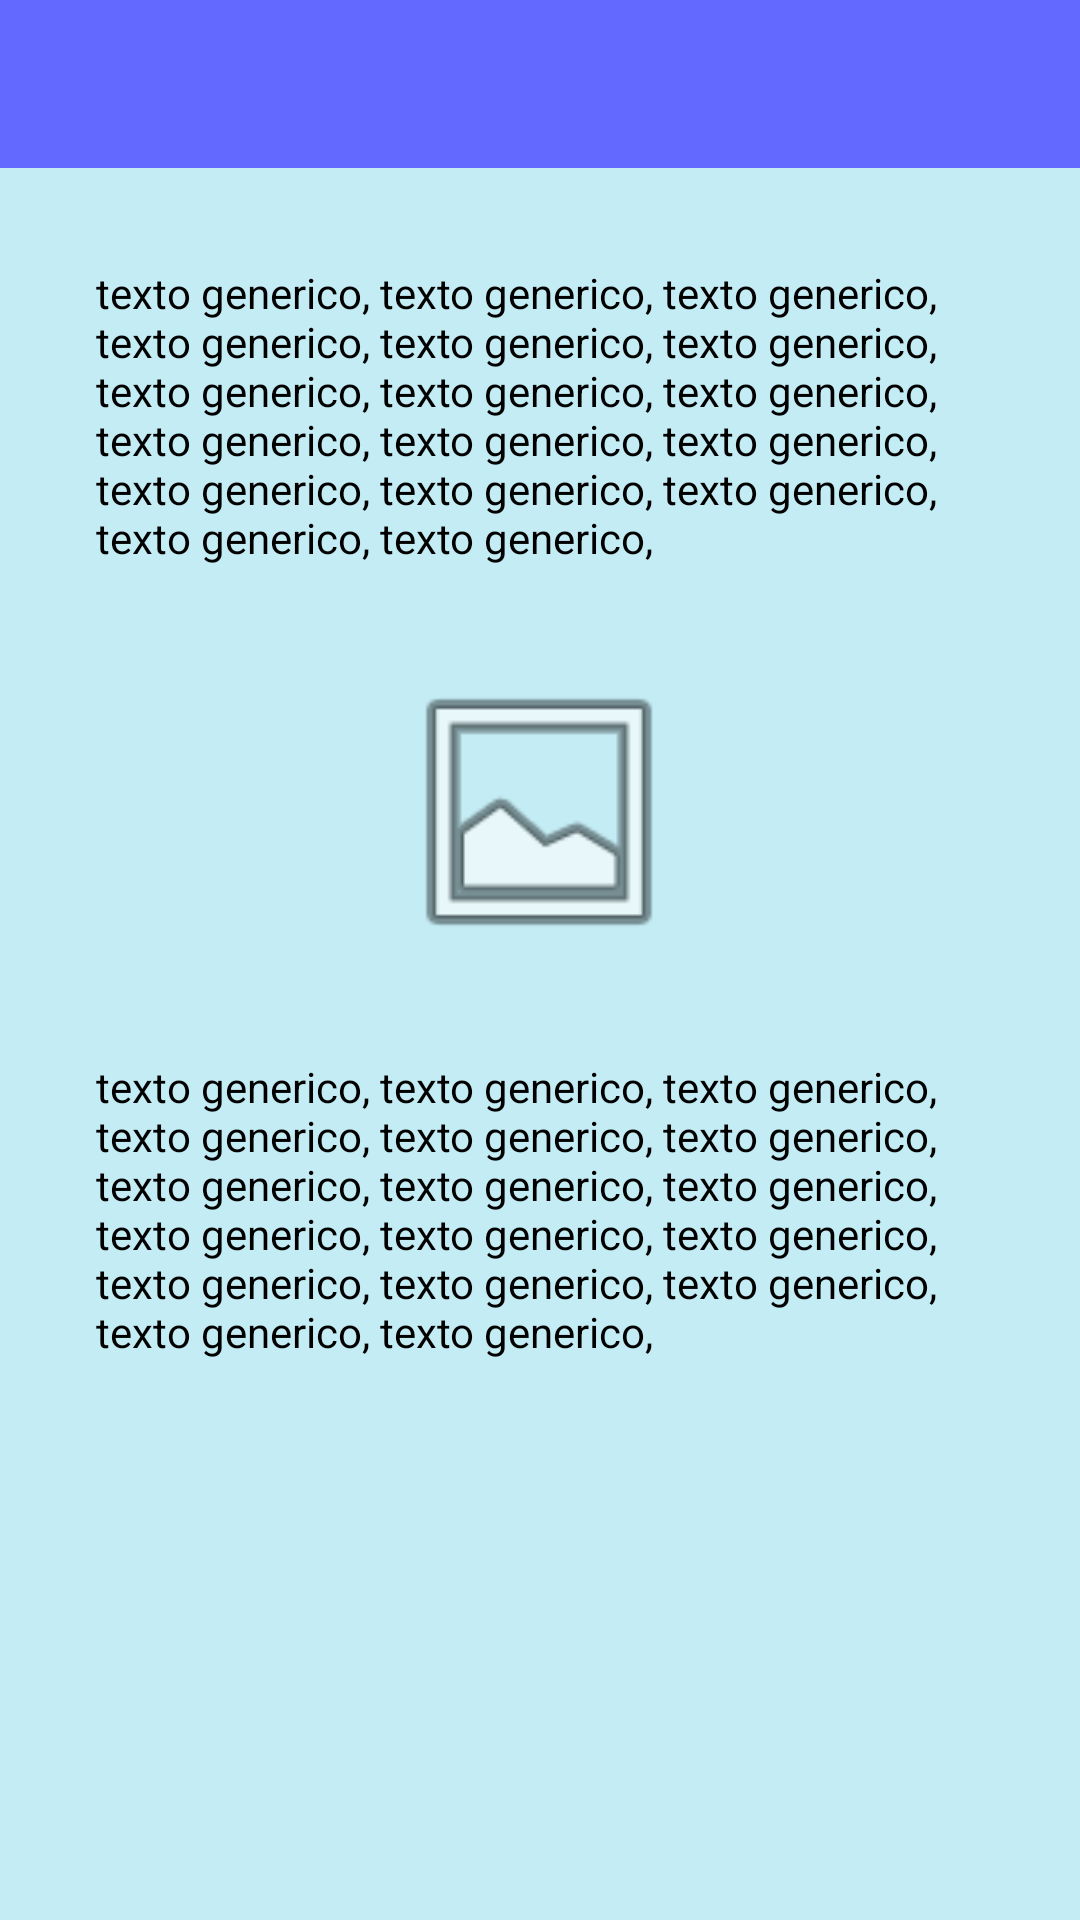

Point at icon controls on the screen. Image size 1080*1920, points as (x=x, y=y).
gallery: (x=539, y=812)
